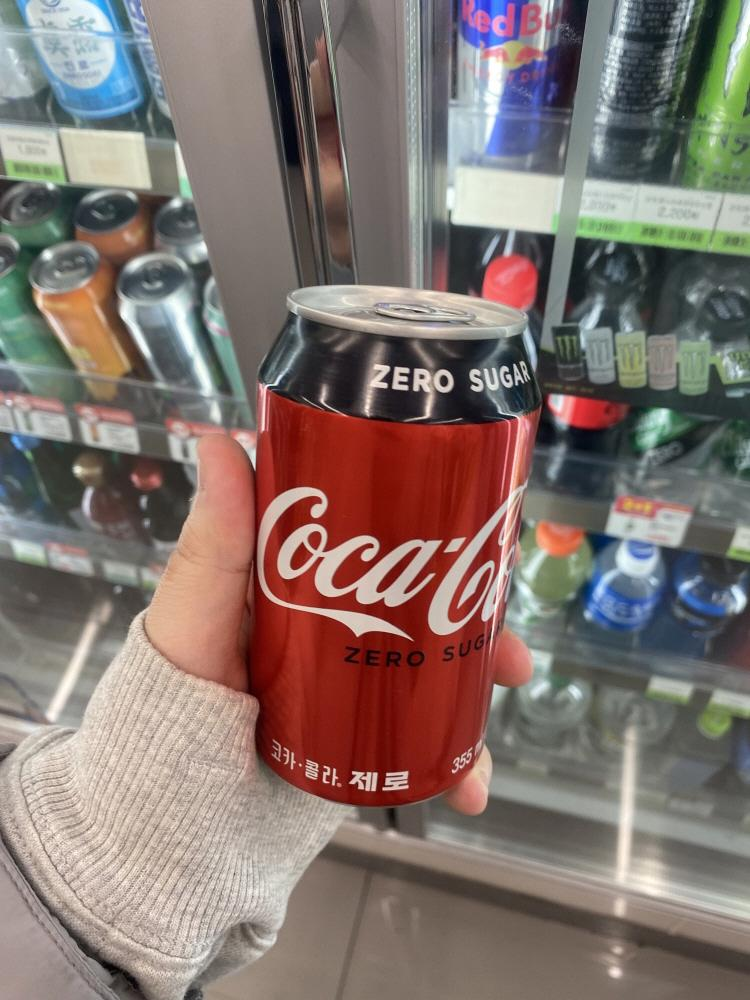cocacola_zero: (218, 220, 521, 834)
